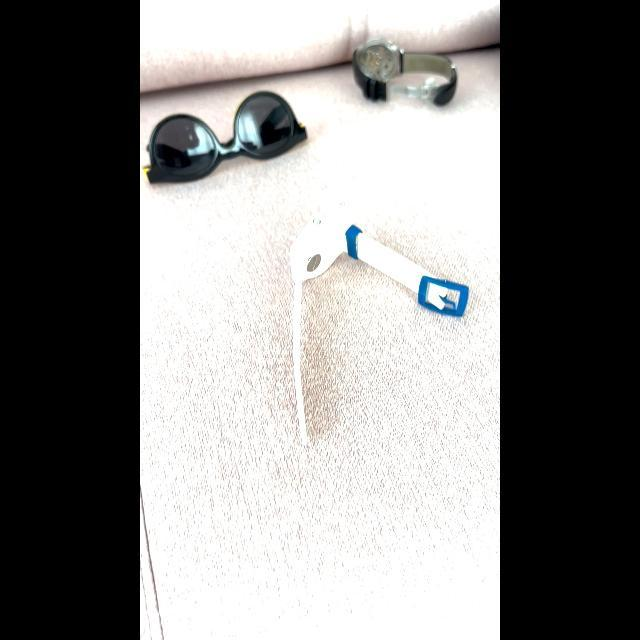eyewear: (140, 84, 316, 194)
